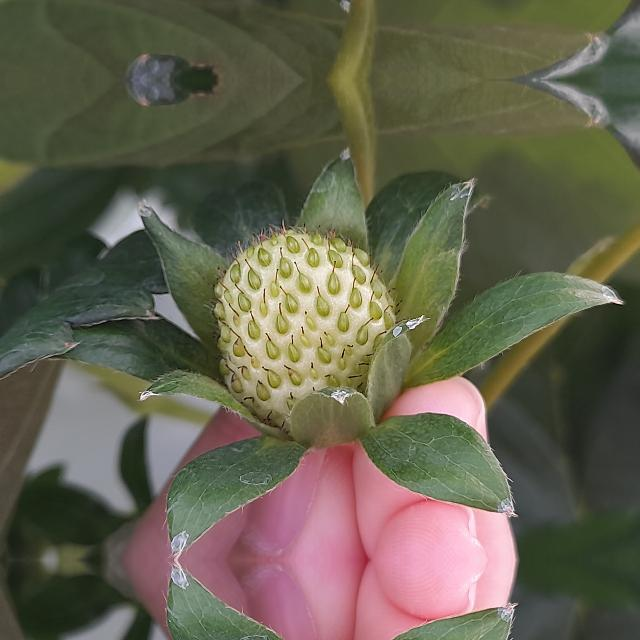Health_25: (203, 218, 405, 440)
